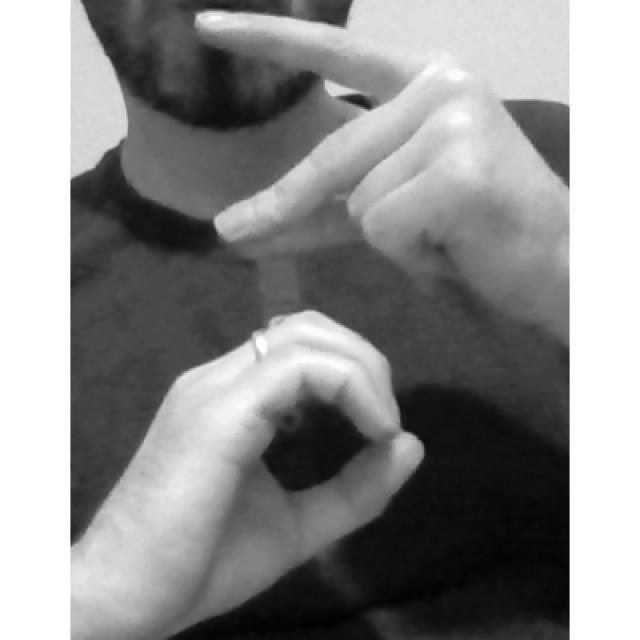O--: (71, 7, 568, 640)
